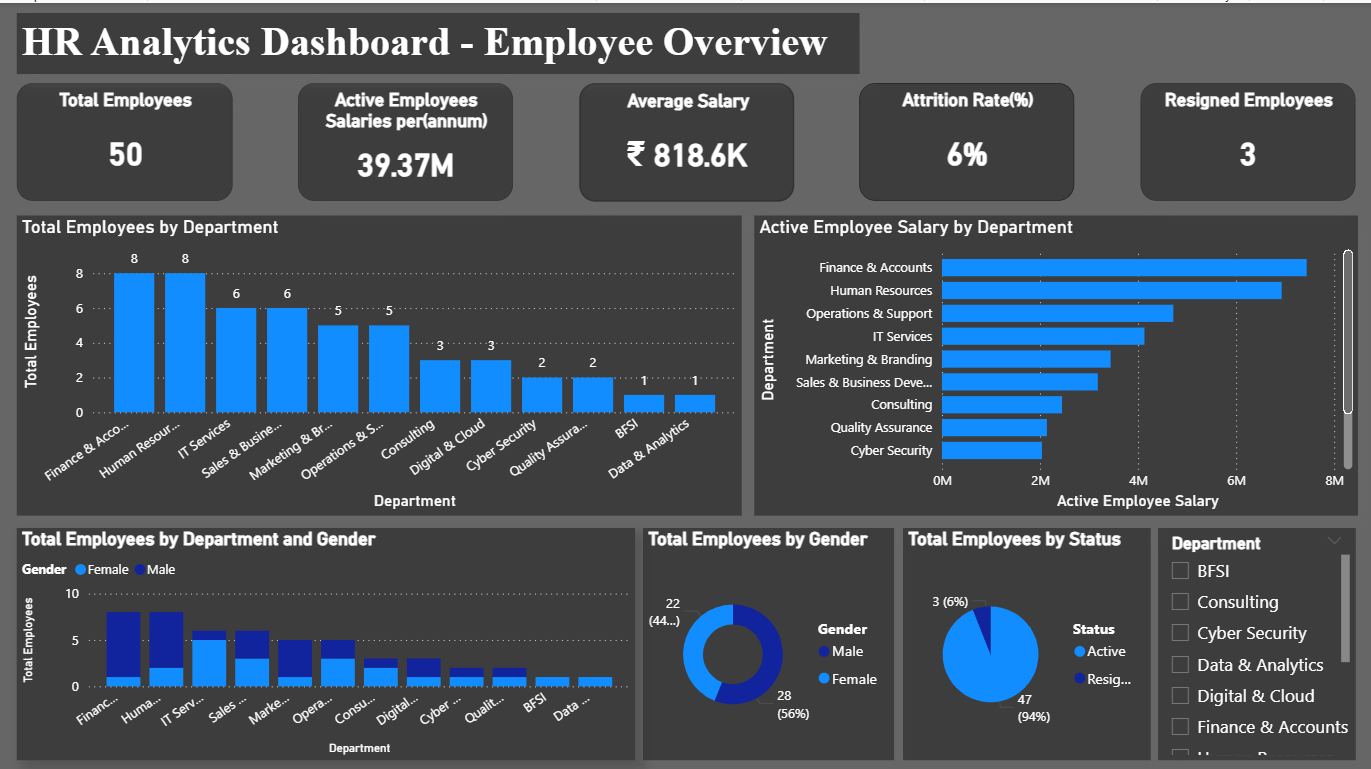

The dashboard page shown, as its layout file describes it:
{"tool":"powerbi","page":{"name":"Page 1","canvas":[1280,720],"ordinal":0},"visuals":[{"type":"card","title":"Total Employees","fields":{"Values":["Table1.Total Employees"]},"box":[17.4,74.4,201.2,109.3],"z":0},{"type":"card","title":"Active Employees Salaries per(annum)","fields":{"Values":["Table1.Active Employee Salary"]},"box":[279.6,74,200,109.3],"z":1000},{"type":"card","title":"Resigned Employees","fields":{"Values":["Table1.Resigned Employees"]},"box":[1062.3,74,200,109.3],"z":2000},{"type":"card","title":"Average Salary","fields":{"Values":["Table1.Average Salary"]},"box":[540.5,74,200,110.5],"z":3000},{"type":"card","title":"Attrition Rate(%)","fields":{"Values":["Table1.Attrition Rate(%)"]},"box":[801.4,74,200,109.3],"z":4000},{"type":"clusteredColumnChart","fields":{"Y":["Table1.Total Employees"],"Category":["Table1.Department"]},"box":[17.4,197.7,674.4,279.1],"z":5000},{"type":"clusteredBarChart","fields":{"Category":["Table1.Department"],"Y":["Table1.Active Employee Salary"]},"box":[703.5,197.7,561.6,279.1],"z":6000},{"type":"donutChart","fields":{"Category":["Table1.Gender"],"Y":["Table1.Total Employees"]},"box":[600.4,488.4,233.7,216.3],"z":7000},{"type":"pieChart","fields":{"Category":["Table1.Status"],"Y":["Table1.Total Employees"]},"box":[841.5,488.4,230.2,216.3],"z":8000},{"type":"columnChart","fields":{"Category":["Table1.Department"],"Y":["Table1.Total Employees"],"Series":["Table1.Gender"]},"box":[17.4,488.4,575.6,216.3],"z":9000},{"type":"slicer","fields":{"Values":["Table1.Department"]},"box":[1079.1,488.4,183.7,216.3],"z":10000},{"type":"textbox","box":[17.4,9.3,783.7,57],"z":11000}]}

Visuals, with their boxes in screenshot pixels (x1, y1, x2, y2), scaled from the page's 1280x720 canvas onto the 1371x769 screenshot:
"Total Employees" card: <region>19, 79, 234, 196</region>
"Active Employees Salaries per(annum)" card: <region>299, 79, 514, 196</region>
"Resigned Employees" card: <region>1138, 79, 1352, 196</region>
"Average Salary" card: <region>579, 79, 793, 197</region>
"Attrition Rate(%)" card: <region>858, 79, 1073, 196</region>
clusteredColumnChart - Table1.Total Employees x Table1.Department: <region>19, 211, 741, 509</region>
clusteredBarChart - Table1.Department x Table1.Active Employee Salary: <region>754, 211, 1355, 509</region>
donutChart - Table1.Gender x Table1.Total Employees: <region>643, 522, 893, 753</region>
pieChart - Table1.Status x Table1.Total Employees: <region>901, 522, 1148, 753</region>
columnChart - Table1.Department x Table1.Total Employees: <region>19, 522, 635, 753</region>
slicer - Table1.Department: <region>1156, 522, 1353, 753</region>
textbox: <region>19, 10, 858, 71</region>
